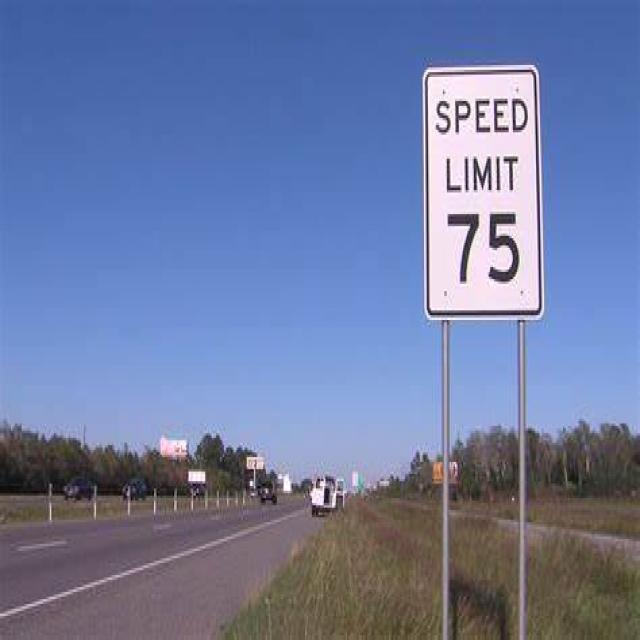speedLimit75: (413, 63, 544, 313)
